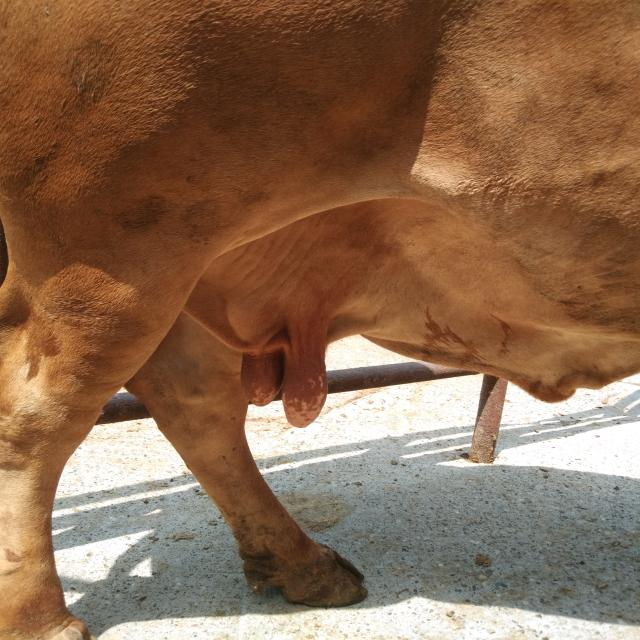Hoof: (241, 542, 368, 608)
